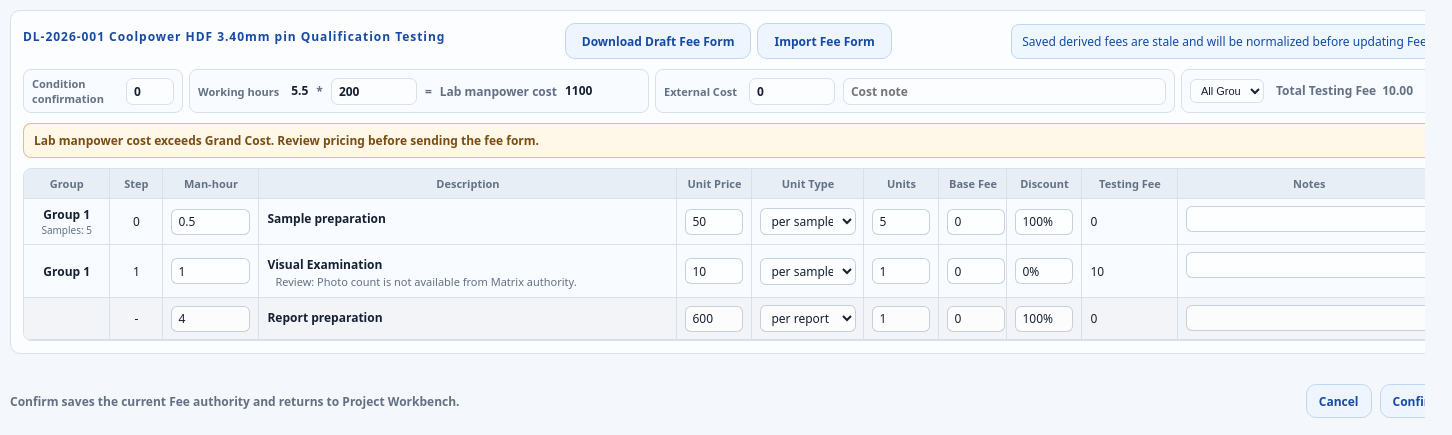
Test: FeeEvaluationReviewExportPage › stays on Fee Evaluation when the Matrix or fee context changed before restore
This screenshot has width=1452, height=435.
Check: the table named "Testing Prices preview rows" is shown, box [24,169,1440,340]
Replace the text in the field named "Unit Price for Visual Examination" with "12" at point(714, 271), box [686,258,744,284]
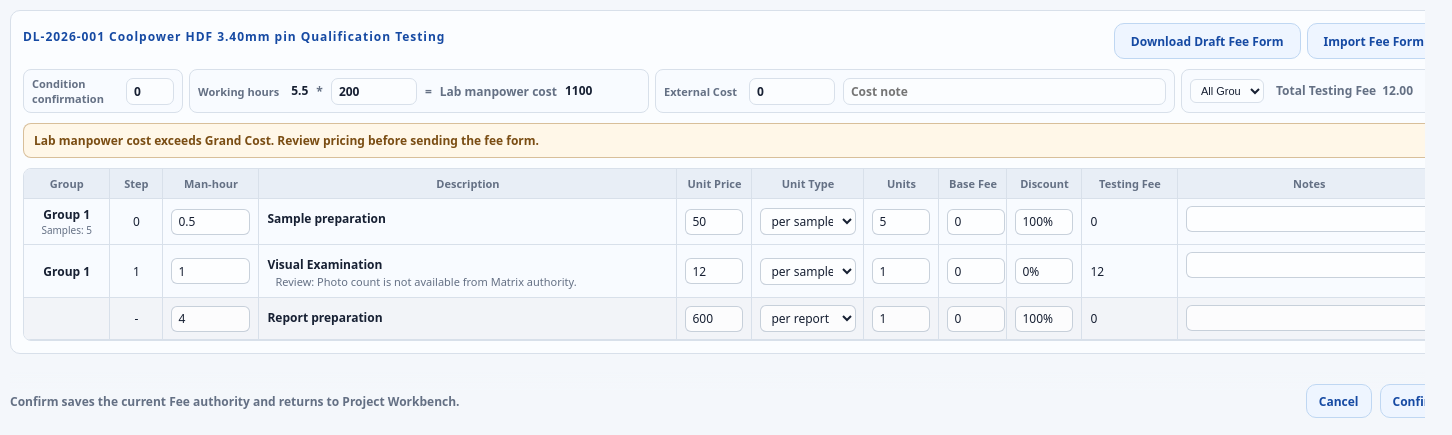
Click the button "Cancel" at point(1339, 401), box [1306,384,1372,418]
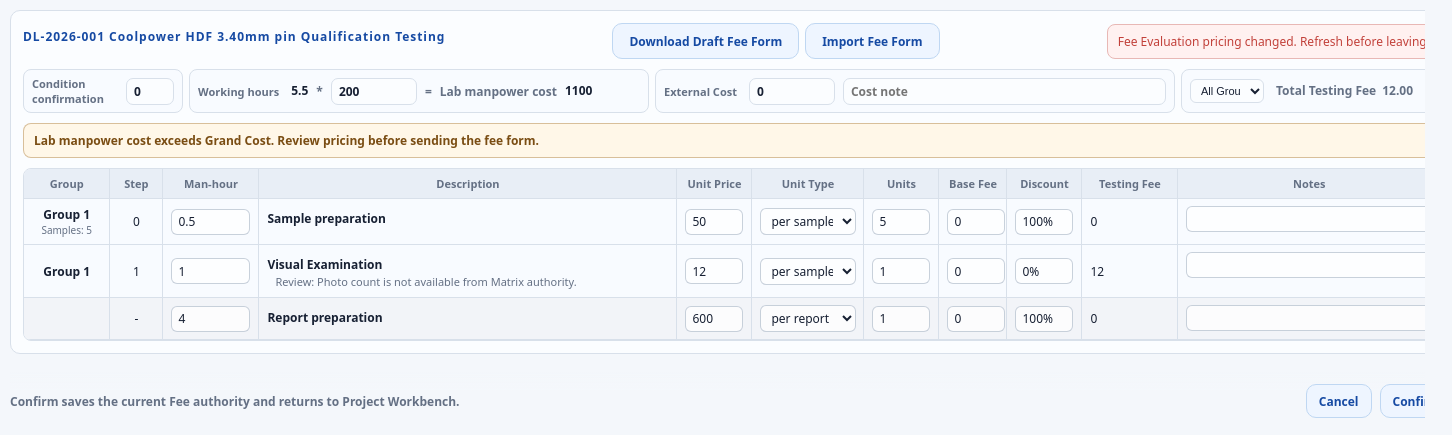
Check: the text "Fee Evaluation pricing changed. Refresh before leaving." is shown, box [1107,24,1441,58]
